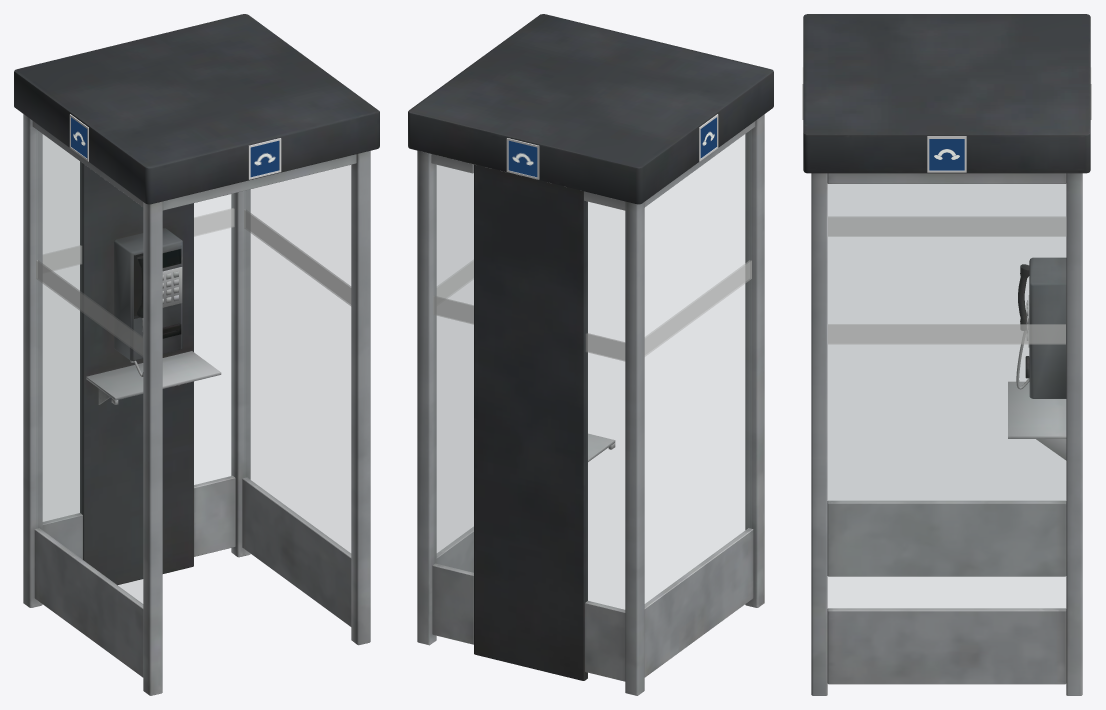
The model's file is phone-booth.glb.
3 views of the same model, side by side, from view 1: azimuth 30°, elevation 25°; view 2: azimuth 150°, elevation 25°; view 3: azimuth 270°, elevation 25° (orthographic). The views are drawn at different scales.
Parts seen in each view (by area): view 1: phone-booth_body, phone-booth_back_left_glass, phone-booth_sign, phone-booth_sign_frames; view 2: phone-booth_body, phone-booth_back_left_glass, phone-booth_sign, phone-booth_sign_frames; view 3: phone-booth_body, phone-booth_back_left_glass, phone-booth_sign, phone-booth_sign_frames.
Boxes of the visible parts, x1,y1,x2,y2 form: phone-booth_body: (14, 14, 379, 695); phone-booth_back_left_glass: (36, 130, 351, 604); phone-booth_sign: (71, 117, 279, 177); phone-booth_sign_frames: (69, 57, 323, 179); phone-booth_body: (408, 14, 773, 695); phone-booth_back_left_glass: (433, 130, 751, 609); phone-booth_sign: (508, 117, 716, 177); phone-booth_sign_frames: (464, 57, 718, 179); phone-booth_body: (803, 14, 1090, 695); phone-booth_back_left_glass: (828, 184, 1065, 608); phone-booth_sign: (929, 139, 964, 170); phone-booth_sign_frames: (802, 67, 1091, 172).
Bounding box in the file's own units: 1.07 × 2.3 × 1.07.
6 materials, 2 textured.
